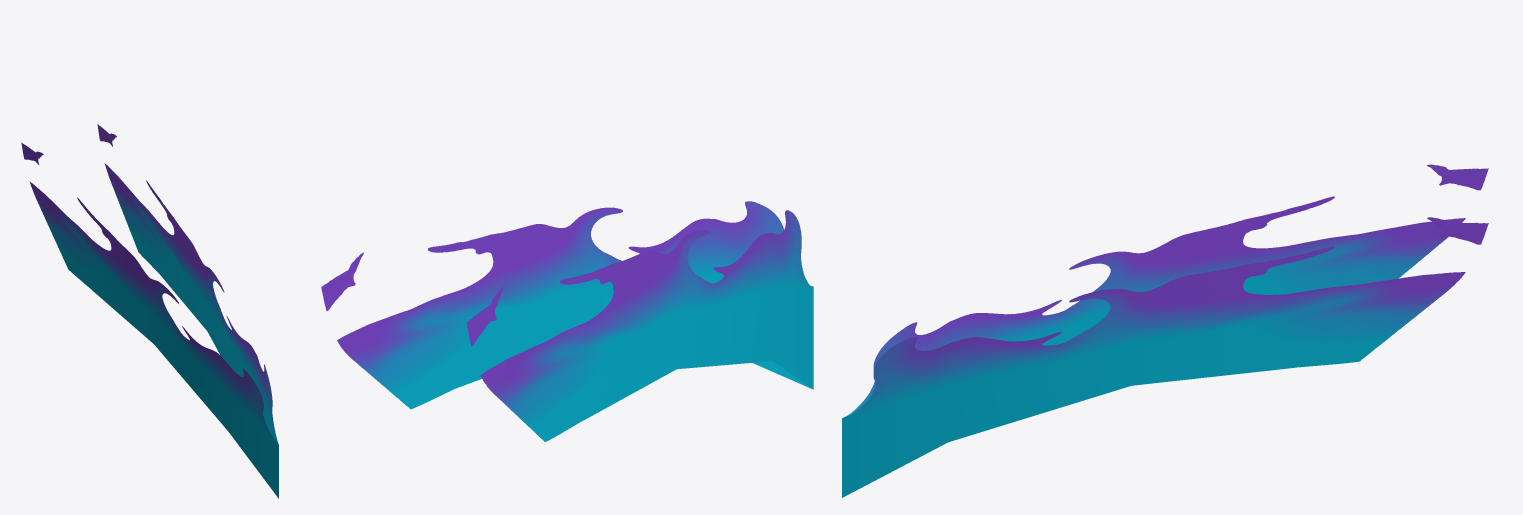
Rendered from jixiehu_zs1_01.FBX.
The picture shows the model from 3 angles, left to right: view 1: azimuth 30°, elevation 25°; view 2: azimuth 150°, elevation 25°; view 3: azimuth 270°, elevation 25°; orthographic projection. The views are drawn at different scales.
Parts seen in each view (by area): view 1: jixiehu_zs1_01; view 2: jixiehu_zs1_01; view 3: jixiehu_zs1_01.
Boxes of the visible parts, x1,y1,x2,y2 form: jixiehu_zs1_01: (21, 124, 278, 498); jixiehu_zs1_01: (321, 201, 813, 441); jixiehu_zs1_01: (842, 164, 1488, 497).
Size of the model in its own units: 17.87 by 69.17 by 91.02.
1 material, 1 textured.
